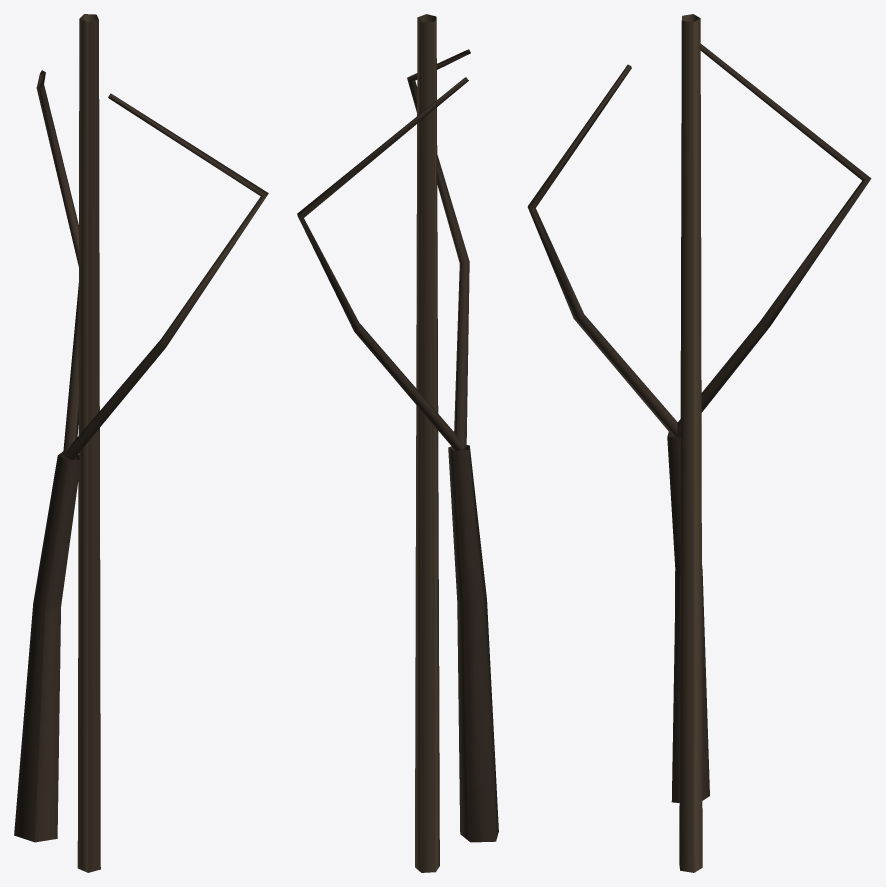
The model's file is vite-0.glb.
3 views of the same model, side by side, from view 1: azimuth 30°, elevation 25°; view 2: azimuth 150°, elevation 25°; view 3: azimuth 270°, elevation 25° (orthographic).
Visible parts, largest first — view 1: vite-0; view 2: vite-0; view 3: vite-0.
Boxes of the visible parts, x1=… form: vite-0: x1=14, y1=14, x2=268, y2=872; vite-0: x1=297, y1=14, x2=498, y2=872; vite-0: x1=527, y1=14, x2=871, y2=872.
Size of the model in its own units: 0.3919 by 1.85 by 0.679.
